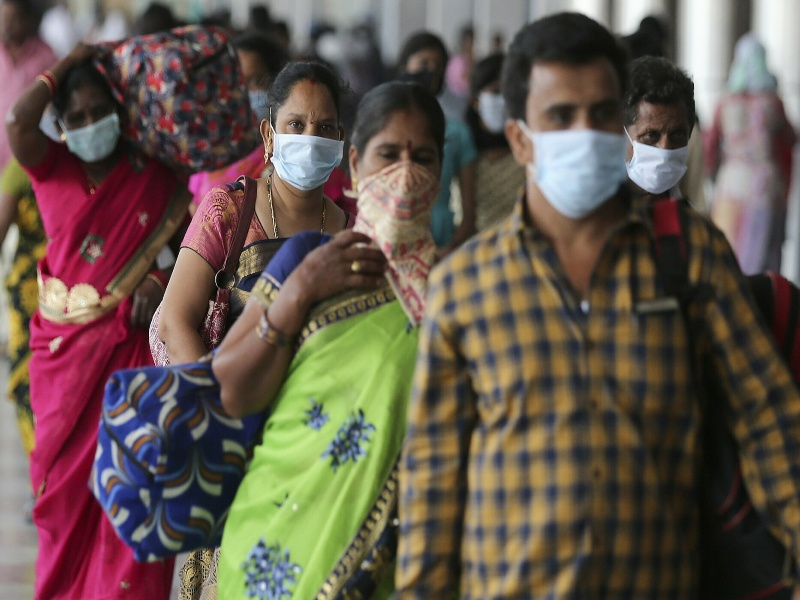ManaoArotava: (500, 17, 633, 227), (343, 90, 454, 243), (616, 54, 705, 212), (262, 68, 350, 200), (47, 70, 133, 168)
